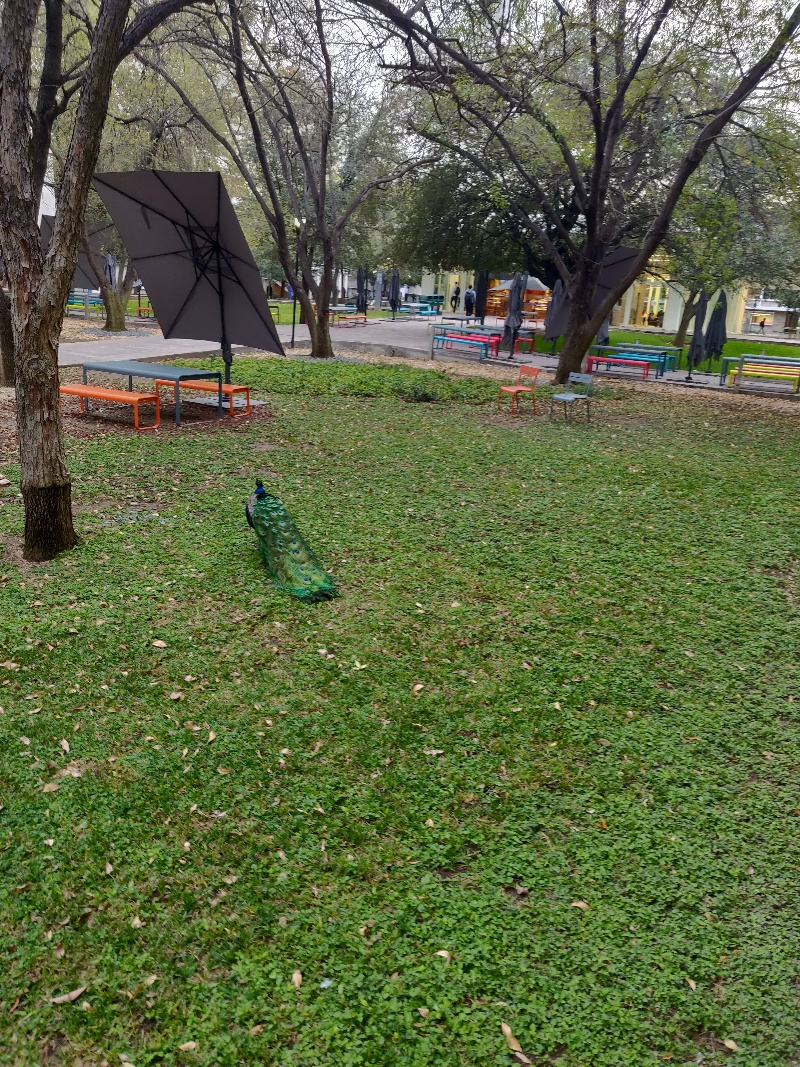pavoreal: (241, 471, 307, 577)
